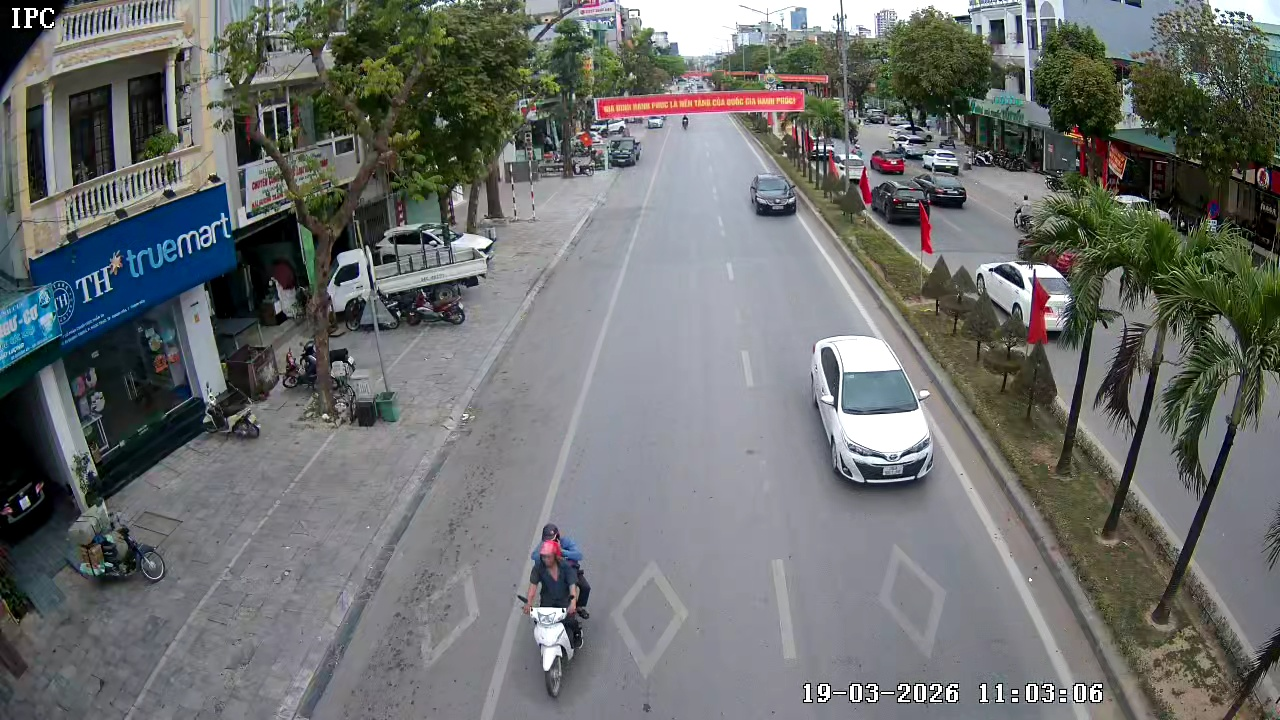car: (809, 333, 935, 486), (871, 173, 931, 224), (748, 171, 798, 217), (917, 166, 969, 208)
motorbike: (515, 521, 594, 698), (68, 502, 168, 586)
truck: (608, 132, 645, 171)
